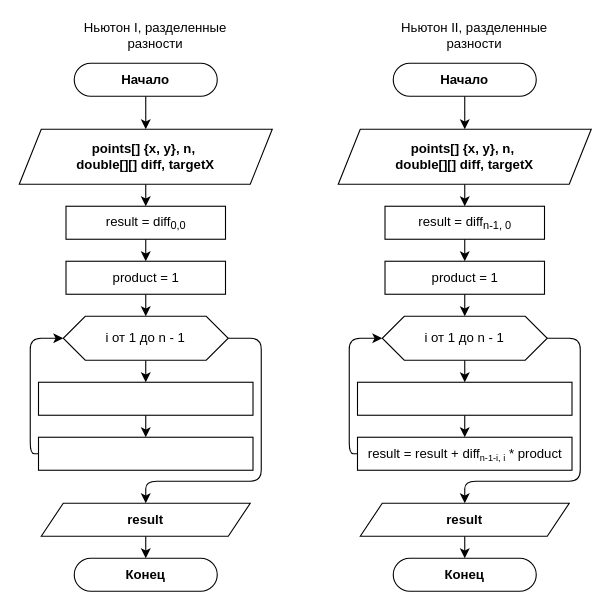
Image size: 611x611. Some labels were removed from this diagram. The centre of each missing label's shape, as x and y in pixels:
"product = product * (targetX - x i-1 )" goes at (x=145, y=398).
"product = product * (targetX - x n-i )" goes at (x=464, y=398).
"result = result + diff 0,i * product" goes at (x=145, y=453).
